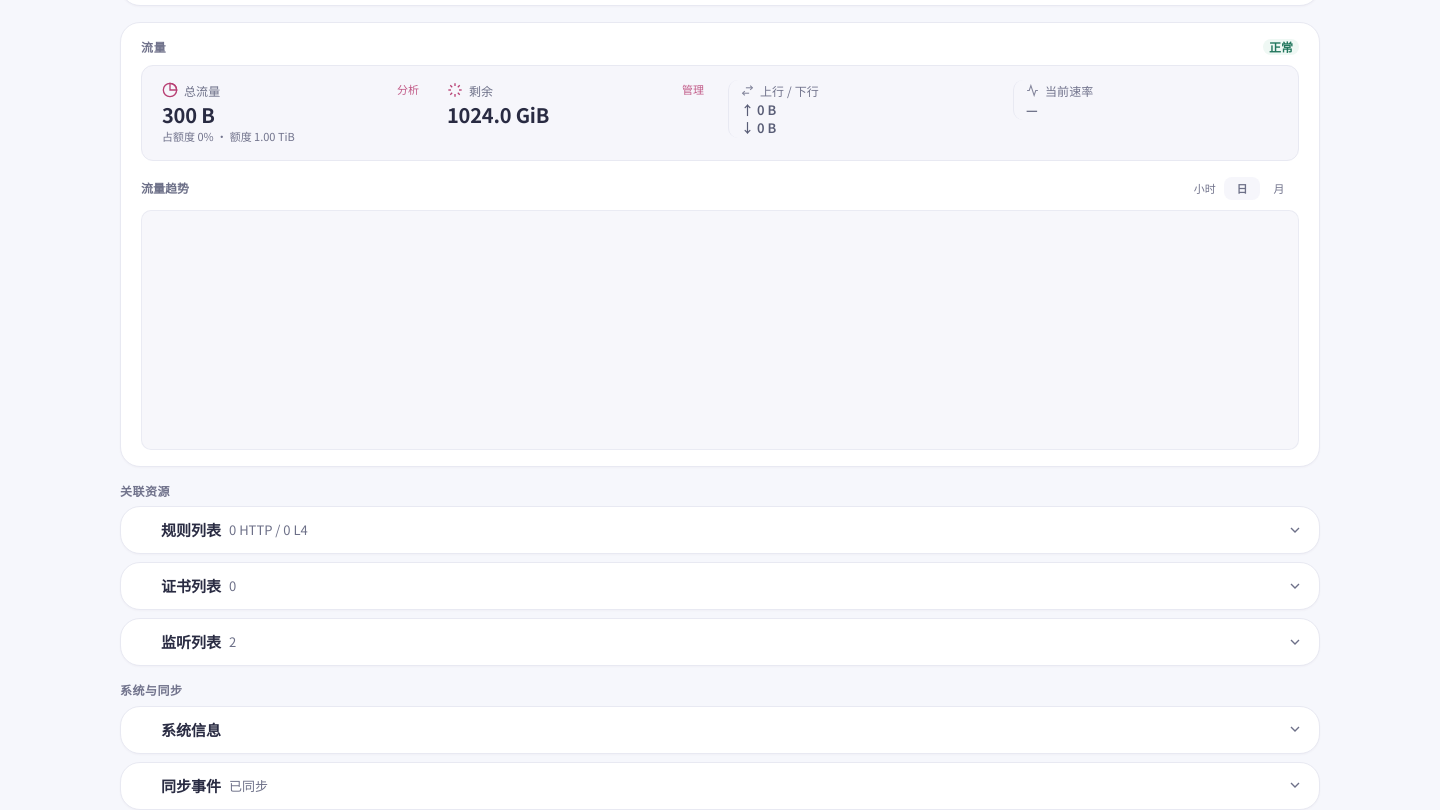
Test: AgentDetailPage › renders relay listener rows with primary name, secondary address, and enabled status
(page scrolled)
Click the button with class "collapsible-section__header" showing "监听列表 2" at (191, 642), box [121,619,1319,665]
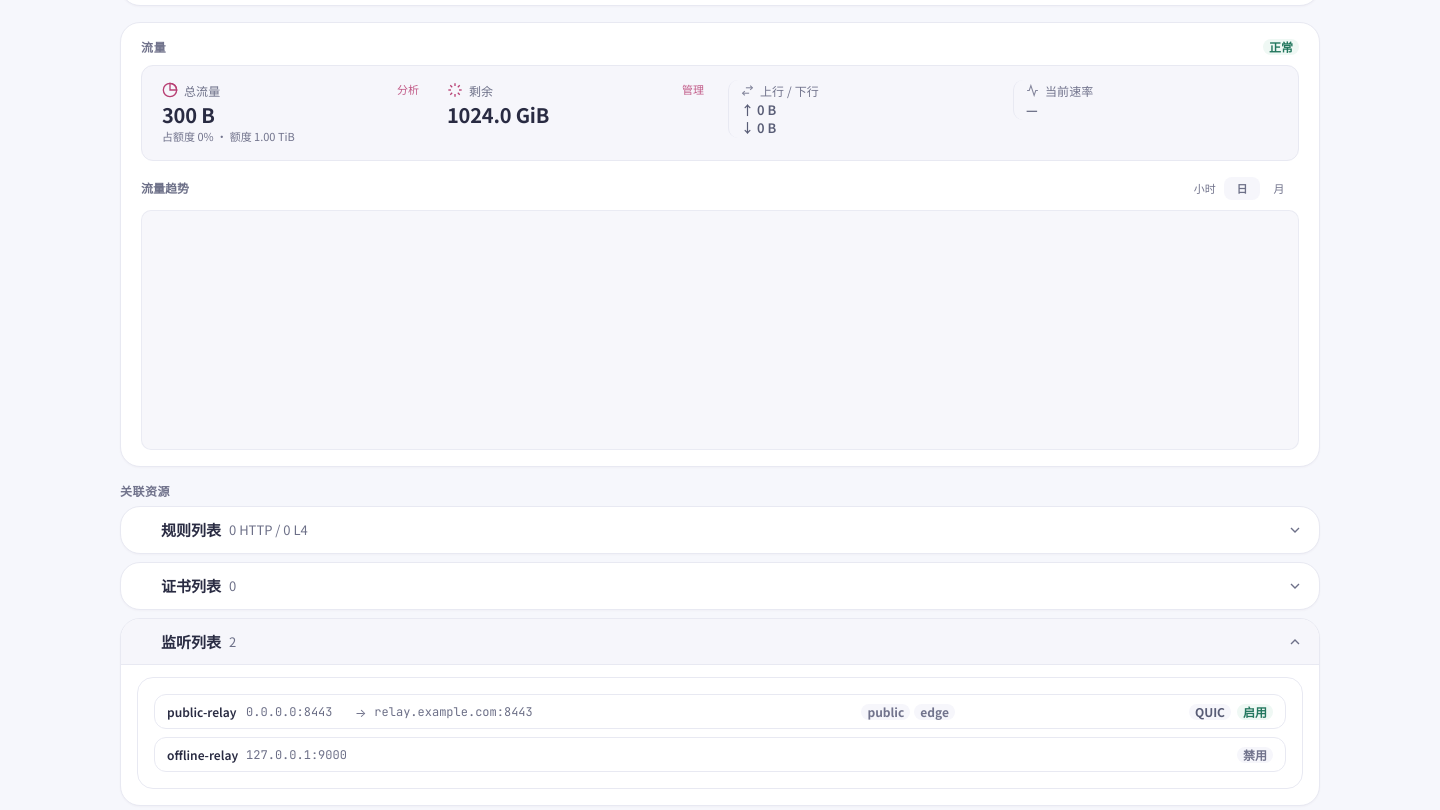
Expected: the element with class "simple-list__row" shows "public-relay", [167,703,236,720]
Expected: the element with class "simple-list__row" shows "public", [868,703,904,720]
Expected: the element with class "simple-list__row" shows "edge", [920,703,949,720]
